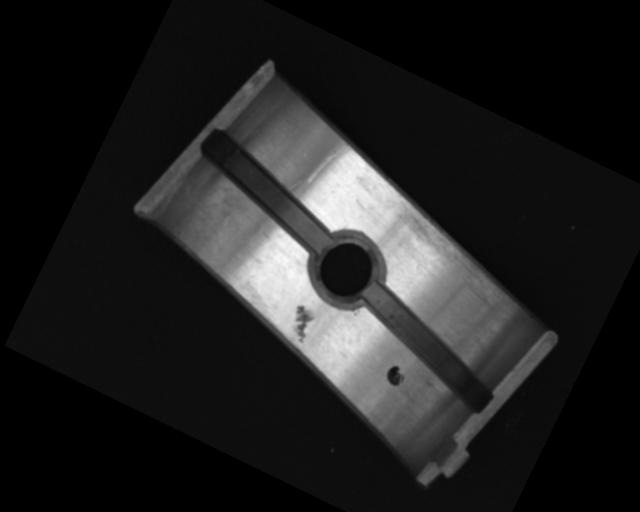blot: (382, 363, 407, 389)
bruise: (282, 302, 319, 344)
gap: (339, 278, 517, 416), (182, 126, 351, 256)
hole: (301, 221, 395, 313)
nick: (307, 133, 353, 192)
scratch: (371, 193, 529, 314)
